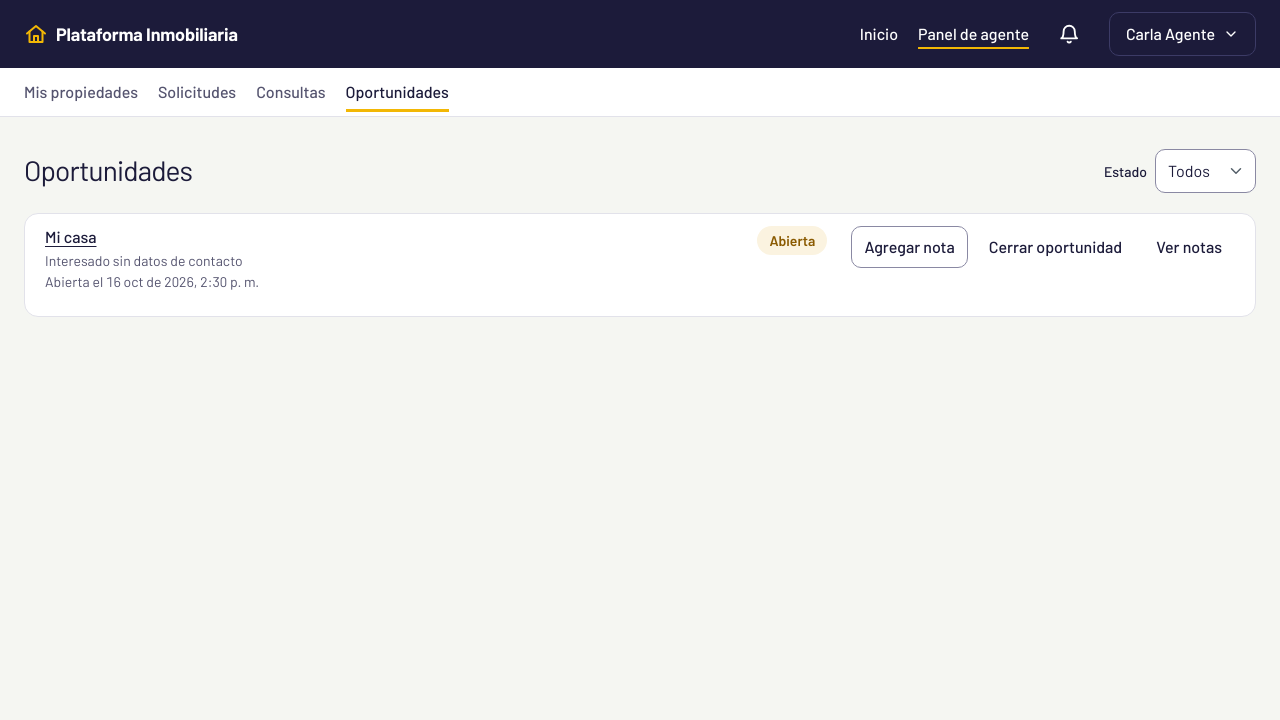
Test: AgentLeadsPage › closes as won with a note and warns that the reservation comes later
Click the button "Cerrar oportunidad" at (1056, 247), box top-left (976, 226), bottom-right (1135, 268)
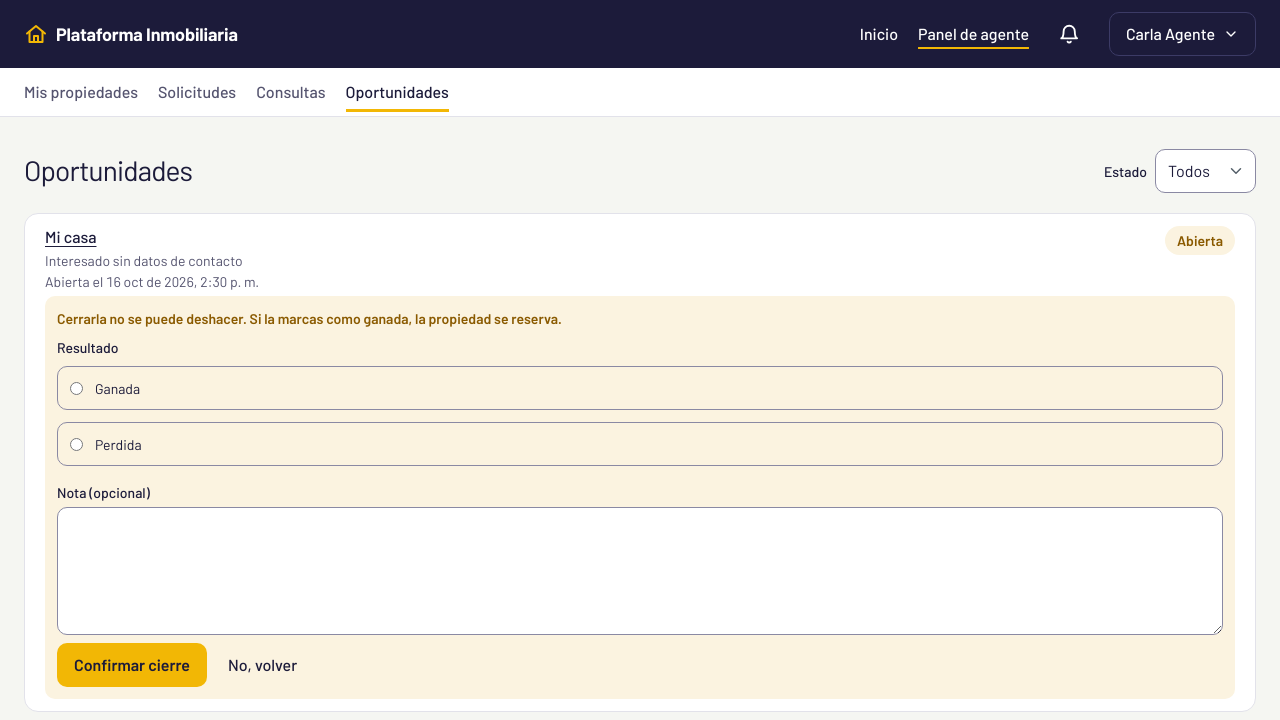
Click the radio button labelled "Ganada" at (76, 388), box top-left (70, 382), bottom-right (83, 394)
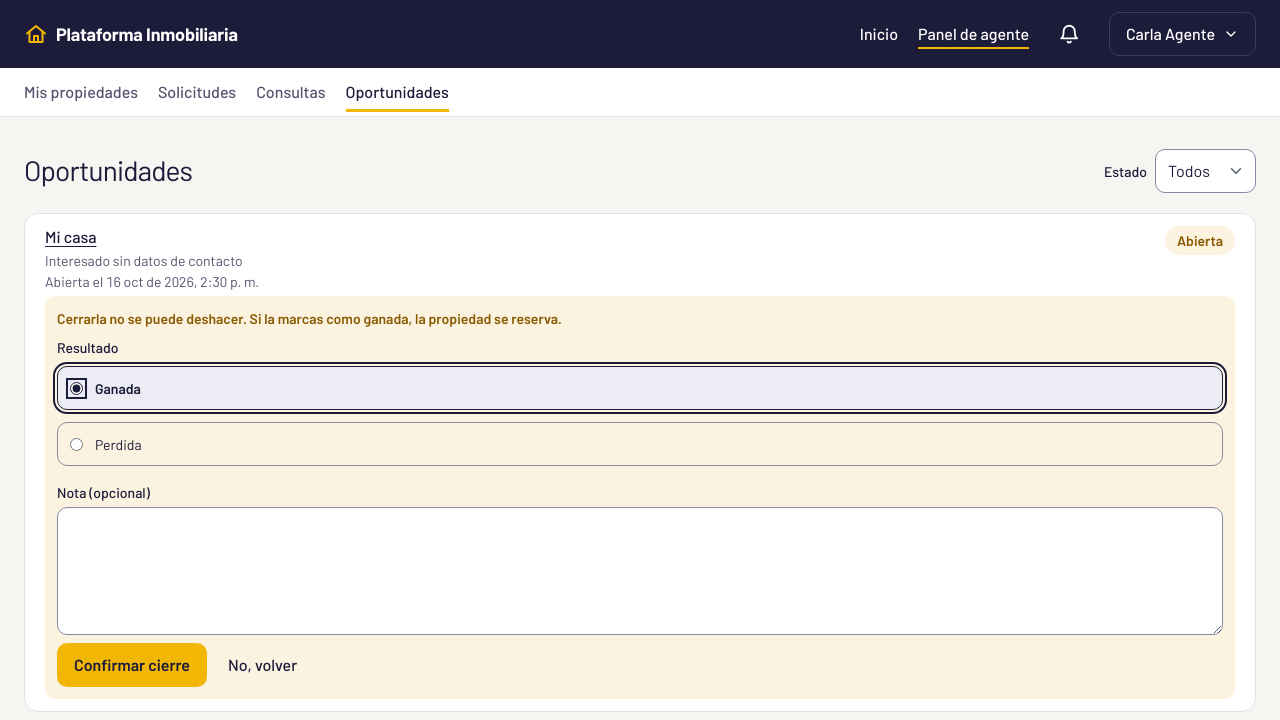
Type "Confirmó" into the text box labelled "Nota (opcional)" at (640, 571), box top-left (57, 507), bottom-right (1223, 635)
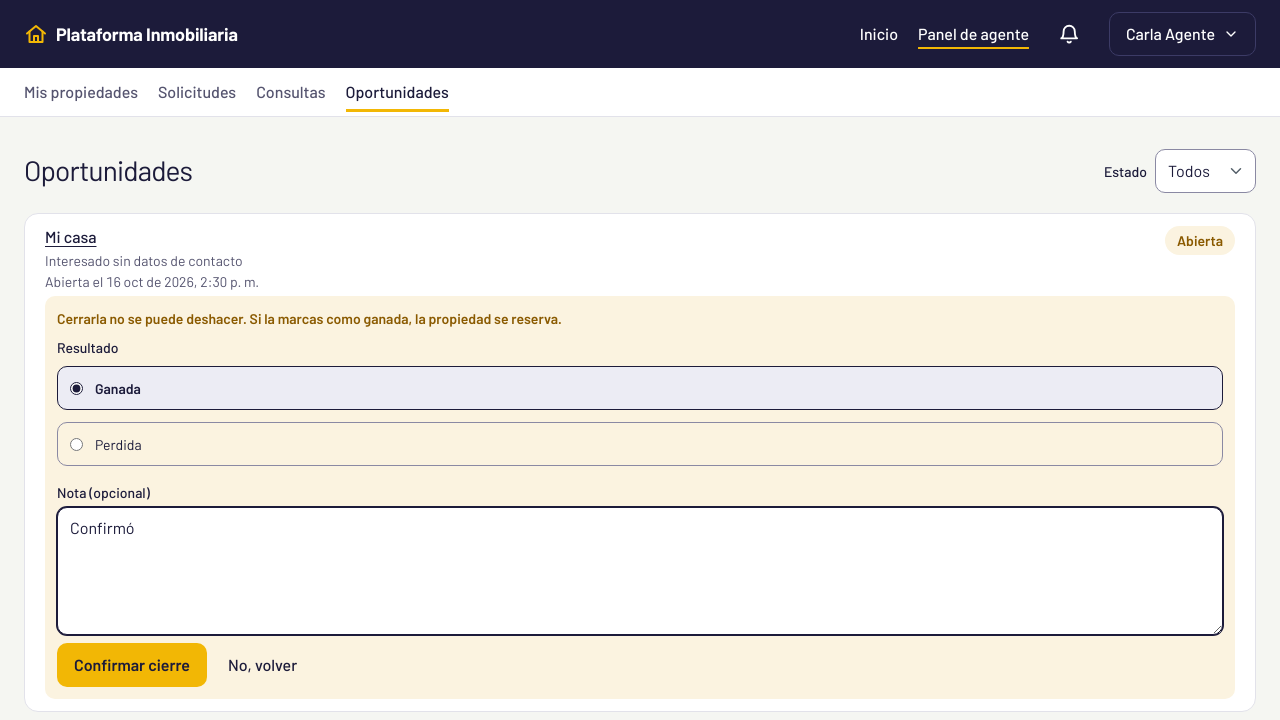
Click the button "Confirmar cierre" at (132, 665), box top-left (57, 643), bottom-right (207, 687)
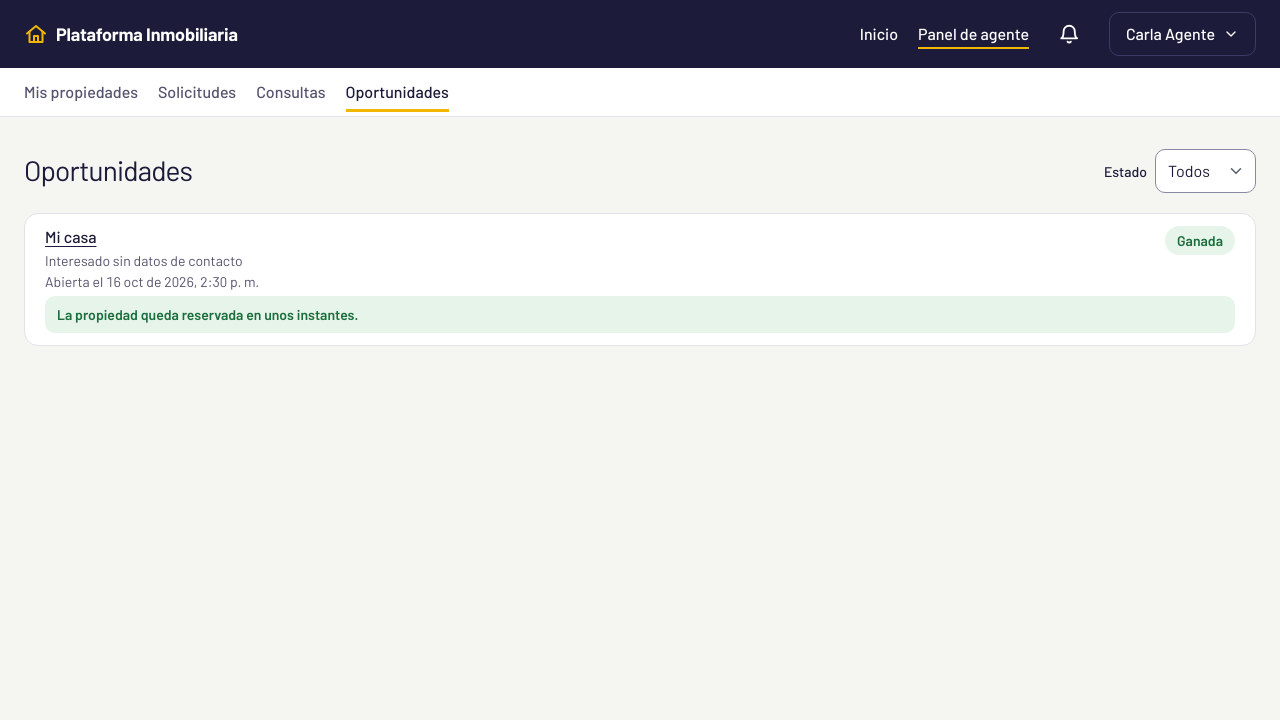
Expected: the text "Ganada" is shown, top-left (1165, 226), bottom-right (1235, 255)
Expected: the text "La propiedad queda reservada en unos instantes." is shown, top-left (45, 296), bottom-right (1235, 333)
